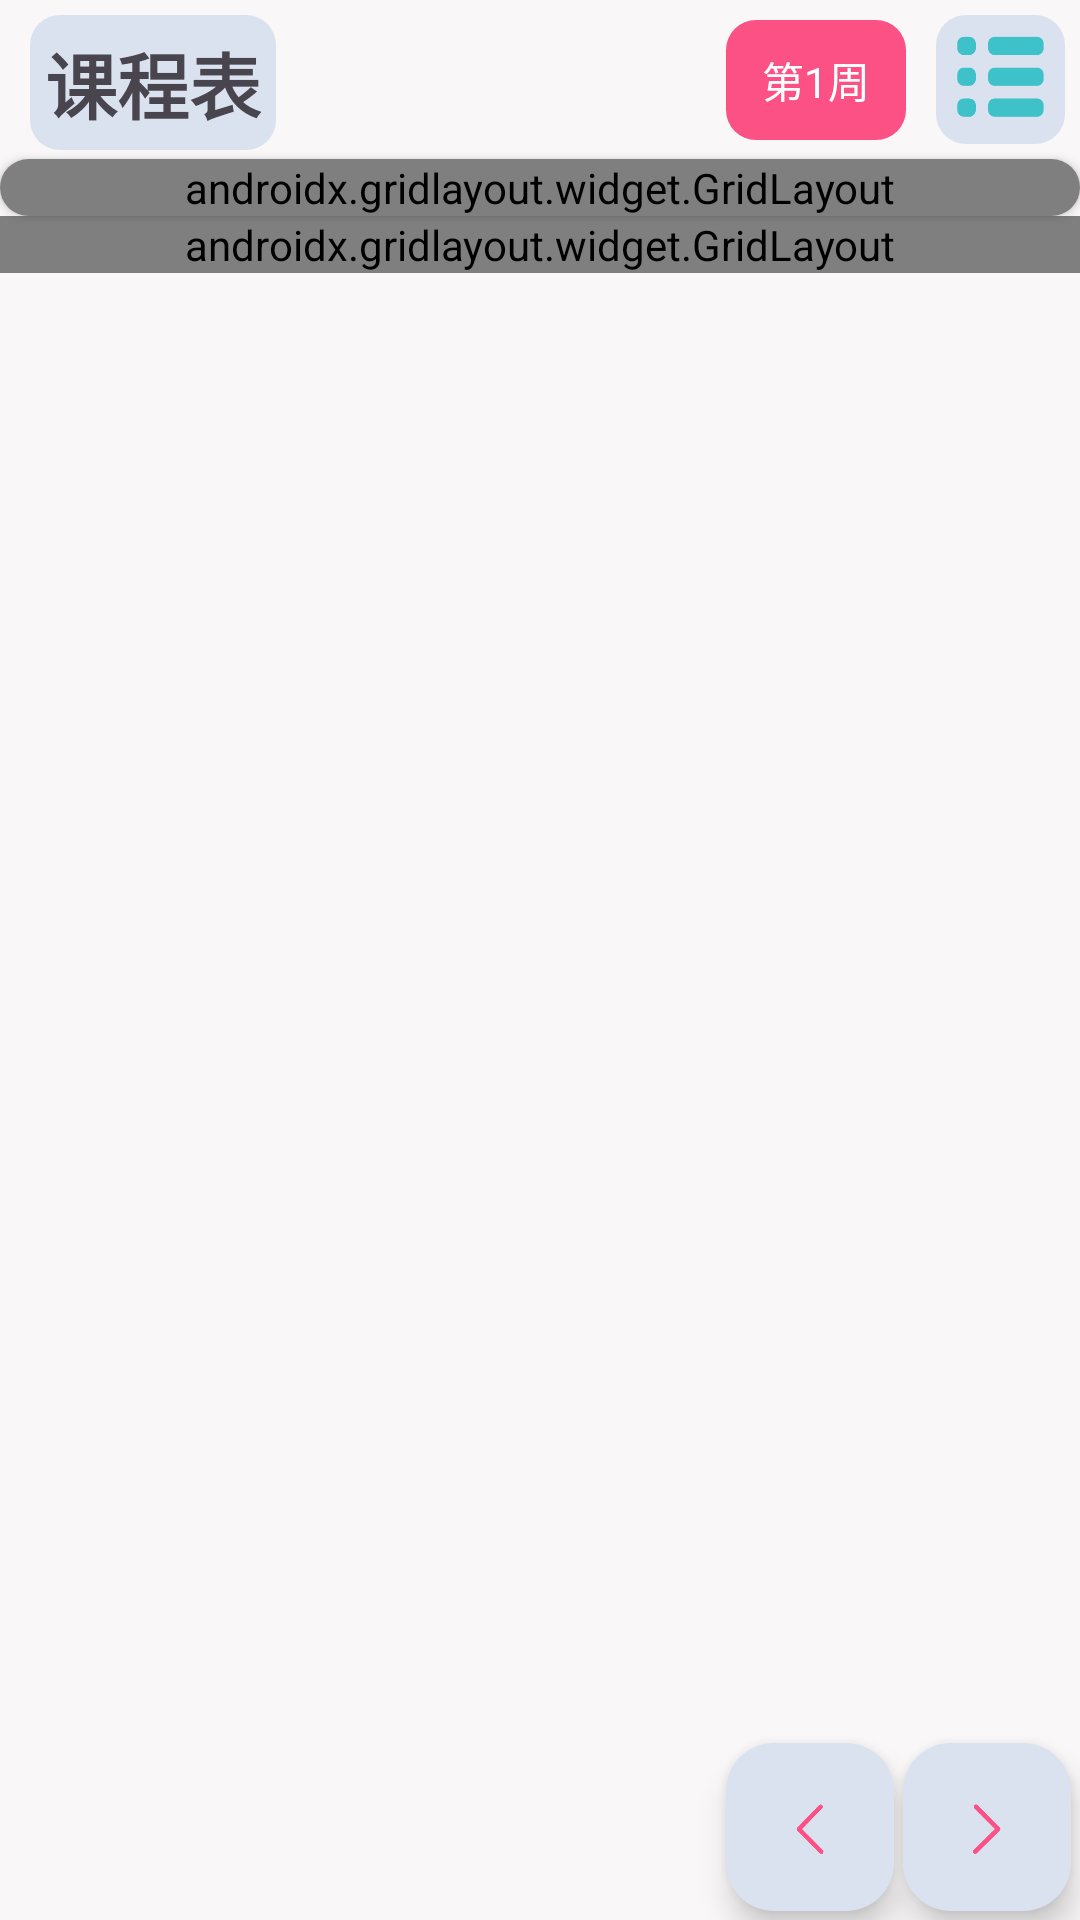

Where to tap for icons on this 1080×1920 app screen, as (x,y):
course last: (810,1827)
course more list: (1000,79)
course next: (987,1827)
